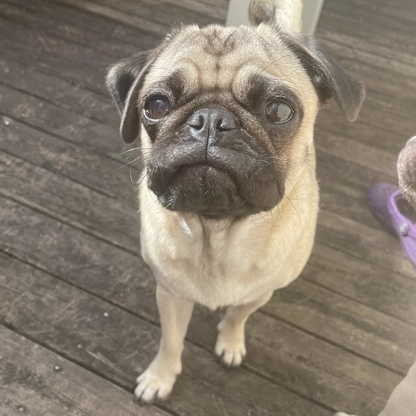Pug: (96, 2, 370, 403)
